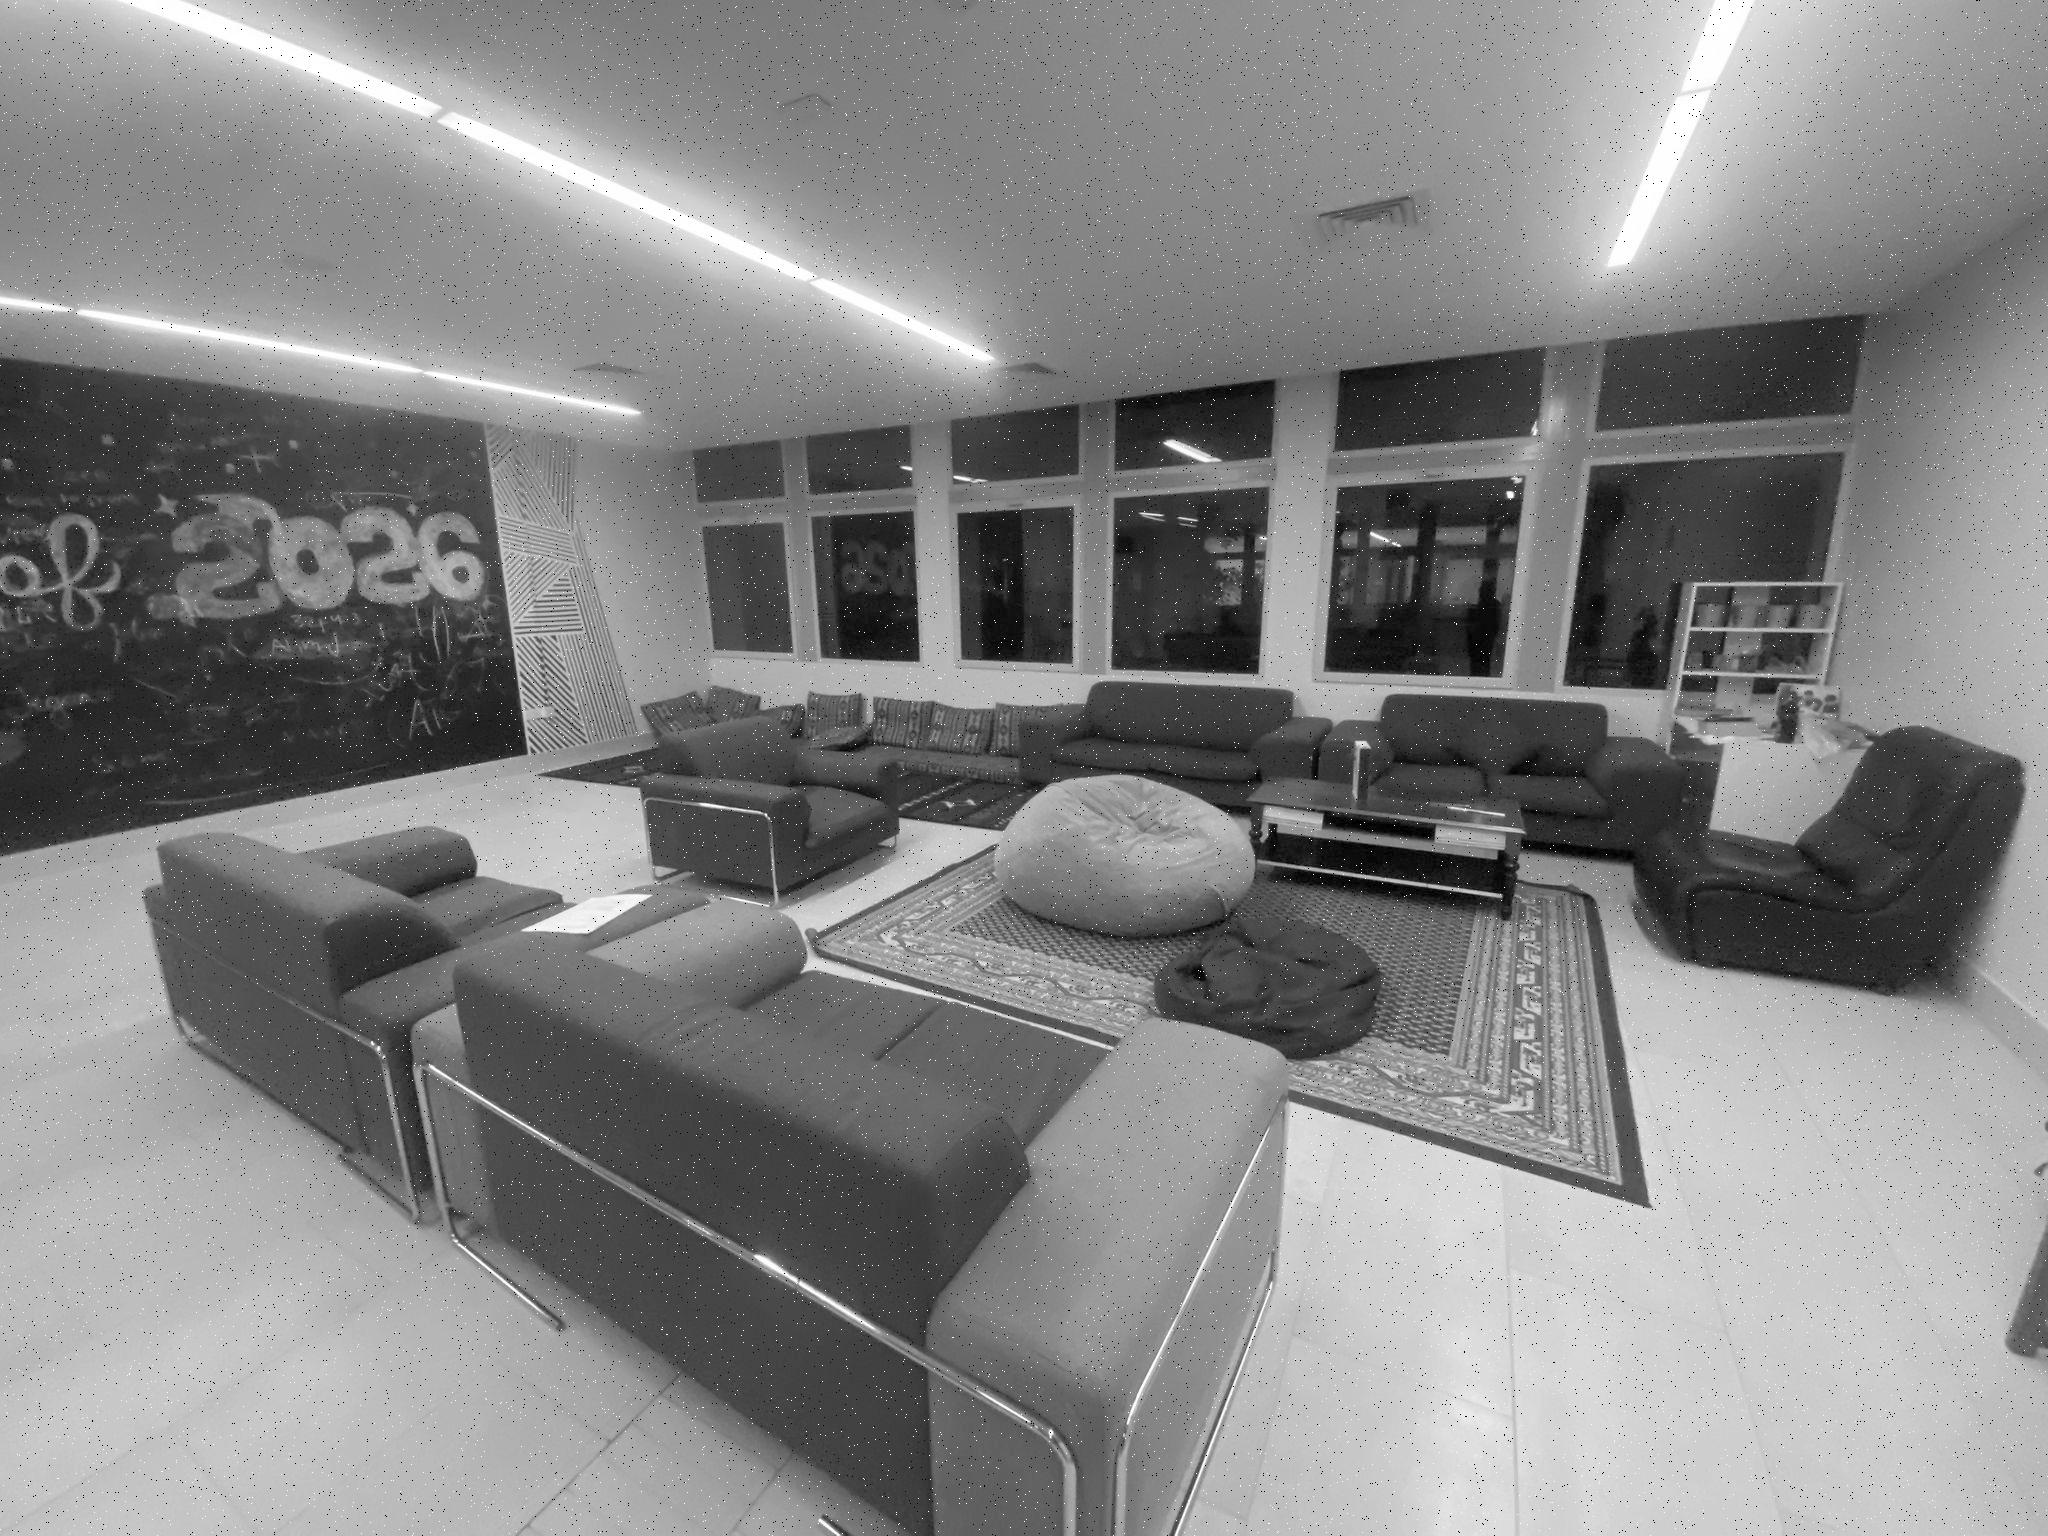Couch: (145, 828, 1288, 1534), (1022, 681, 2024, 984), (639, 715, 898, 895), (993, 774, 1255, 936), (642, 686, 1051, 783), (1155, 912, 1382, 1057)
Wall: (1838, 211, 2046, 1016), (572, 439, 710, 723)
